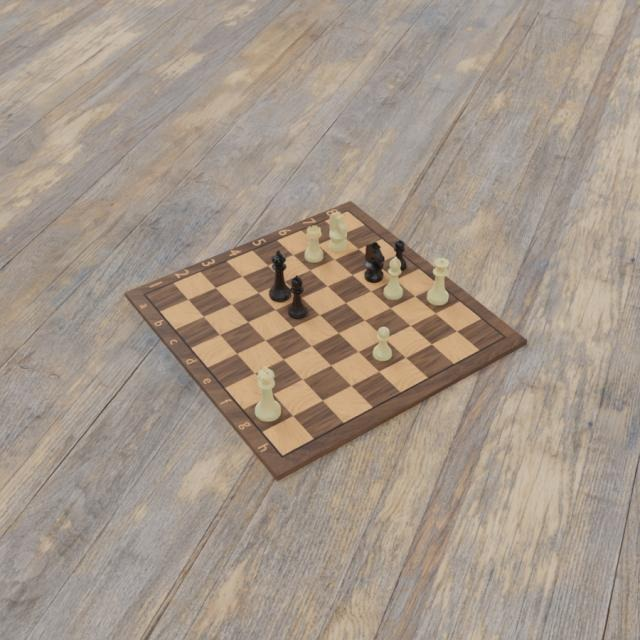black-bishop: (288, 275, 308, 321)
black-king: (267, 249, 289, 302)
black-knight: (364, 241, 384, 283)
black-pawn: (391, 238, 407, 271)
white-bishop: (383, 256, 405, 300)
white-king: (254, 364, 282, 424)
white-knight: (328, 210, 348, 253)
white-pawn: (371, 325, 392, 362)
white-queen: (425, 256, 451, 306)
white-rook: (303, 223, 324, 264)
